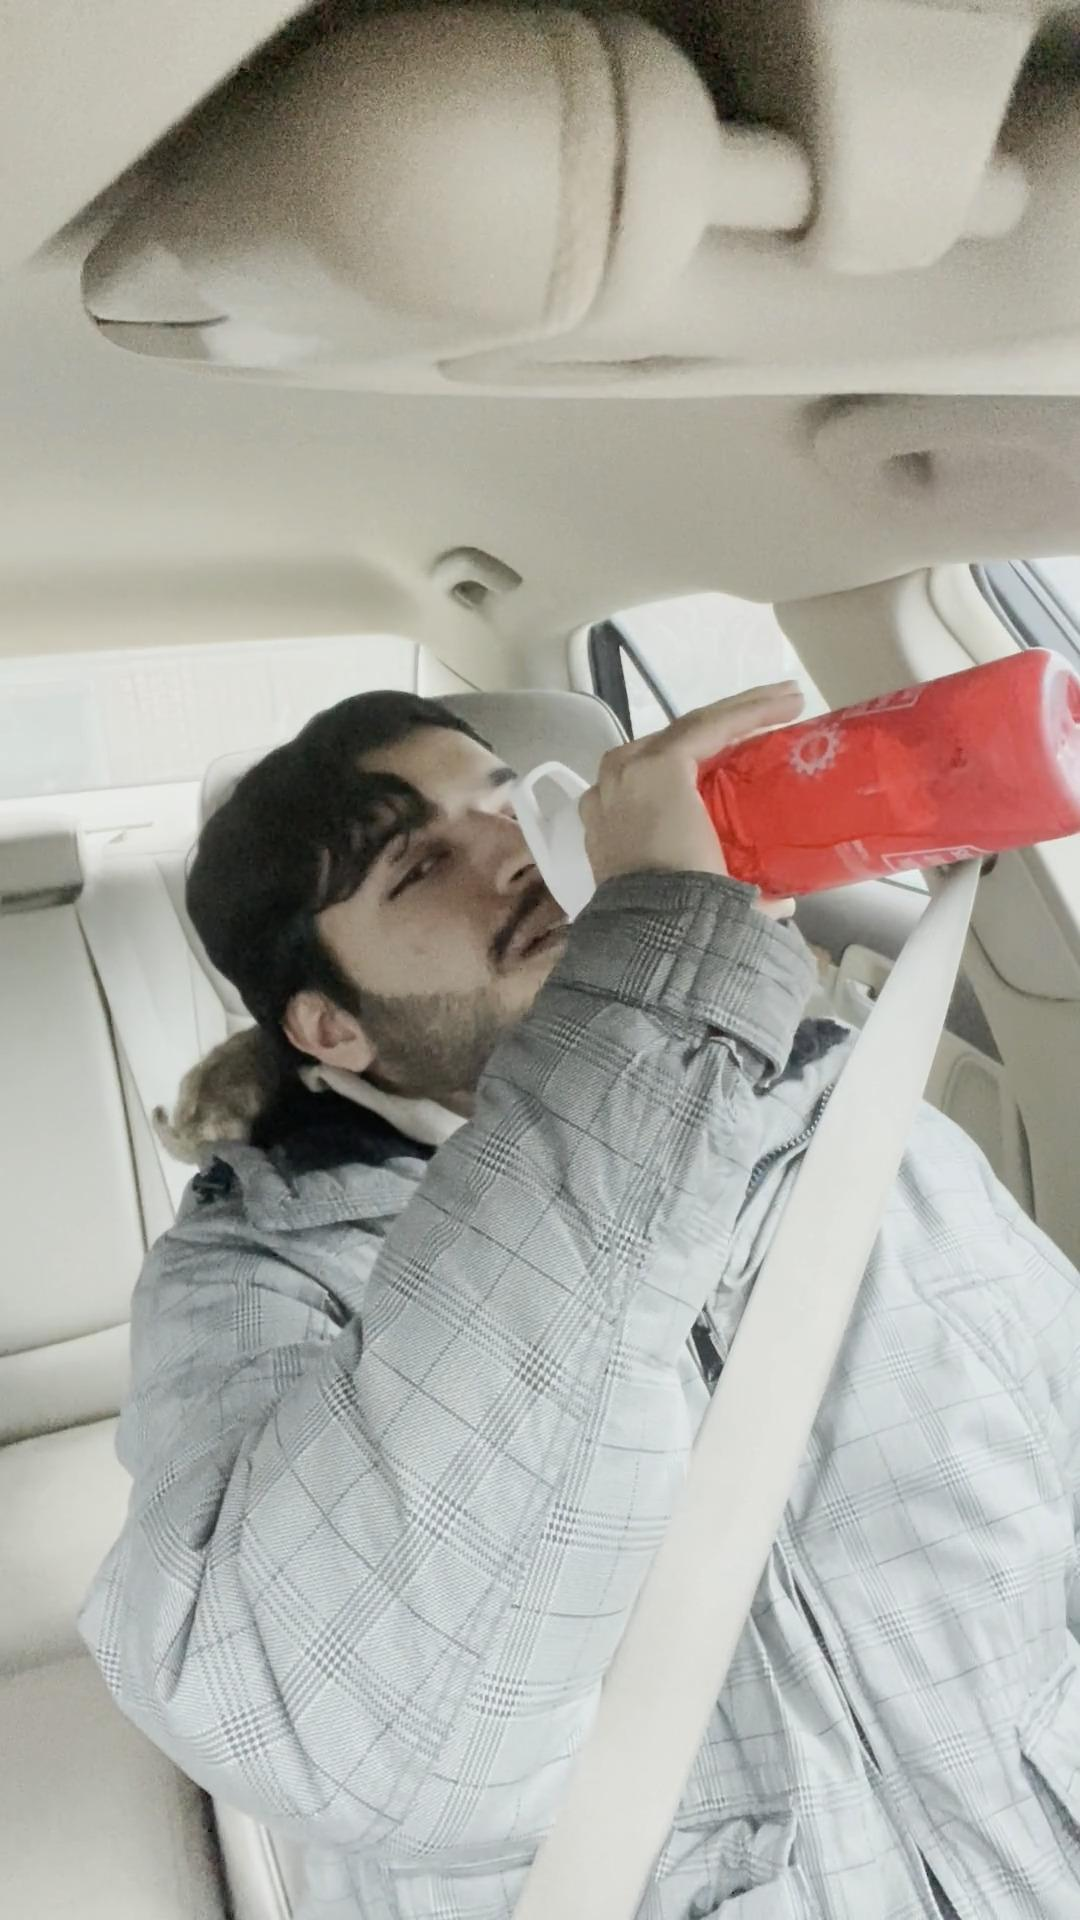drinking: (500, 665, 1080, 890)
seatbelt: (444, 1100, 1080, 1920)
